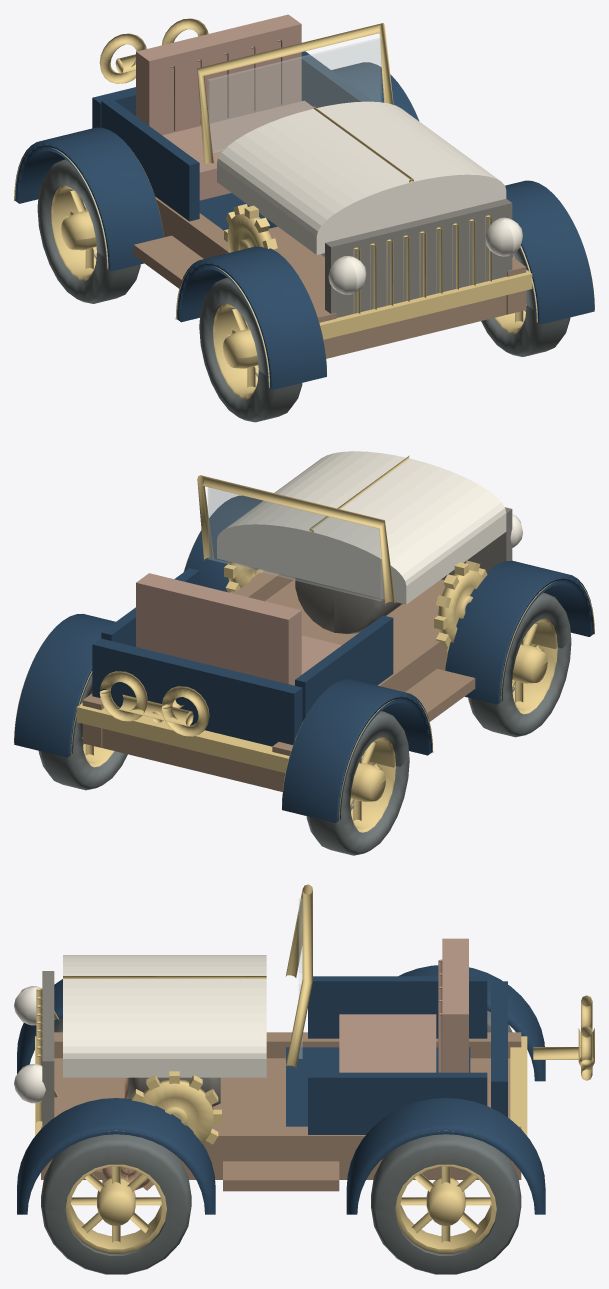
Rendered from car.glb.
3 views of the same model, one above another, from view 1: azimuth 30°, elevation 25°; view 2: azimuth 150°, elevation 25°; view 3: azimuth 270°, elevation 25° (orthographic).
Parts seen in each view (by area): view 1: Car_Fenders, Car_Hood, Car_Padded_Seat, Car_Chassis, Car_Front_Grille, Car_Windshield, Car_Coachwork, Car_Tire_L_R, Car_Tire_L_F, Car_Windshield_Frame, Car_Tire_R_F, Car_Grille_Bars (+4 smaller); view 2: Car_Fenders, Car_Hood, Car_Coachwork, Car_Chassis, Car_Padded_Seat, Car_Windshield, Car_Tire_L_R, Car_Tire_L_F, Car_Key_Loops, Car_Spring_Drum, Car_Windshield_Frame, Car_Tire_R_R (+4 smaller); view 3: Car_Hood, Car_Fenders, Car_Coachwork, Car_Chassis, Car_Tire_R_R, Car_Tire_R_F, Car_Padded_Seat, Car_Running_Boards, Car_Gear_Main_1, Car_Windshield_Frame, Car_Front_Grille, Car_Headlamps (+3 smaller).
Boxes of the visible parts, box(x1,y1,x2,y2) form: Car_Fenders: box(14, 62, 594, 389); Car_Hood: box(217, 101, 506, 254); Car_Padded_Seat: box(136, 14, 313, 200); Car_Chassis: box(155, 197, 532, 358); Car_Front_Grille: box(325, 198, 512, 317); Car_Windshield: box(208, 37, 381, 152); Car_Coachwork: box(92, 51, 373, 230); Car_Tire_L_R: box(37, 159, 140, 303); Car_Tire_L_F: box(199, 278, 302, 422); Car_Windshield_Frame: box(197, 23, 393, 164); Car_Tire_R_F: box(481, 248, 570, 356); Car_Grille_Bars: box(353, 215, 491, 313); Car_Fenders: box(14, 495, 594, 822); Car_Hood: box(217, 451, 506, 604); Car_Coachwork: box(92, 568, 393, 746); Car_Chassis: box(76, 570, 447, 791); Car_Padded_Seat: box(136, 573, 341, 685); Car_Windshield: box(208, 487, 381, 600); Car_Tire_L_R: box(306, 711, 409, 855); Car_Tire_L_F: box(468, 592, 571, 737); Car_Key_Loops: box(99, 671, 209, 736); Car_Spring_Drum: box(295, 578, 402, 633); Car_Windshield_Frame: box(197, 475, 395, 604); Car_Tire_R_R: box(38, 675, 127, 790); Car_Hood: box(63, 955, 266, 1077); Car_Fenders: box(17, 965, 545, 1214); Car_Coachwork: box(286, 976, 507, 1134); Car_Chassis: box(35, 1032, 527, 1179); Car_Tire_R_R: box(371, 1134, 521, 1274); Car_Tire_R_F: box(41, 1134, 191, 1274); Car_Padded_Seat: box(339, 938, 468, 1072); Car_Running_Boards: box(223, 1161, 339, 1191); Car_Gear_Main_1: box(130, 1071, 221, 1144); Car_Windshield_Frame: box(285, 884, 312, 1068); Car_Front_Grille: box(42, 971, 54, 1127); Car_Headlamps: box(14, 986, 59, 1103).
Size of the model in its own units: 0.79 by 0.6183 by 1.2.
